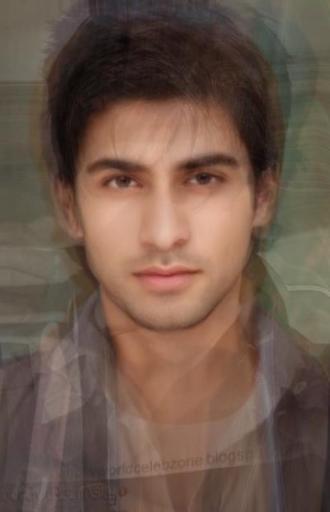left_eye: (183, 170, 229, 191)
left_lip_corner: (191, 264, 209, 282)
right_eye: (102, 174, 145, 194)
right_lip_corner: (129, 268, 145, 286)
